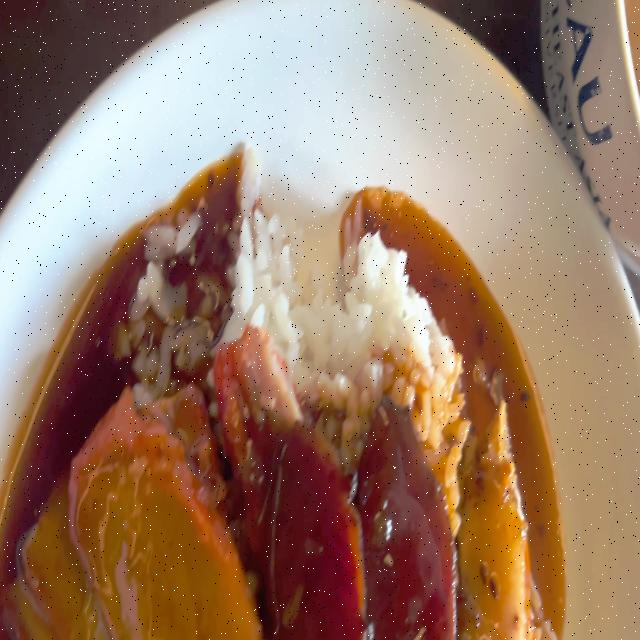chainese_sausage: (265, 423, 456, 640), (265, 419, 359, 632), (361, 412, 446, 640)
crispy_pork: (458, 409, 533, 640)
red_pork: (10, 387, 254, 640), (68, 390, 242, 640), (23, 491, 90, 622), (220, 335, 284, 469), (155, 384, 226, 502)
red_pork_and_crispy_pork: (1, 204, 532, 640)
rice: (221, 215, 447, 410)
